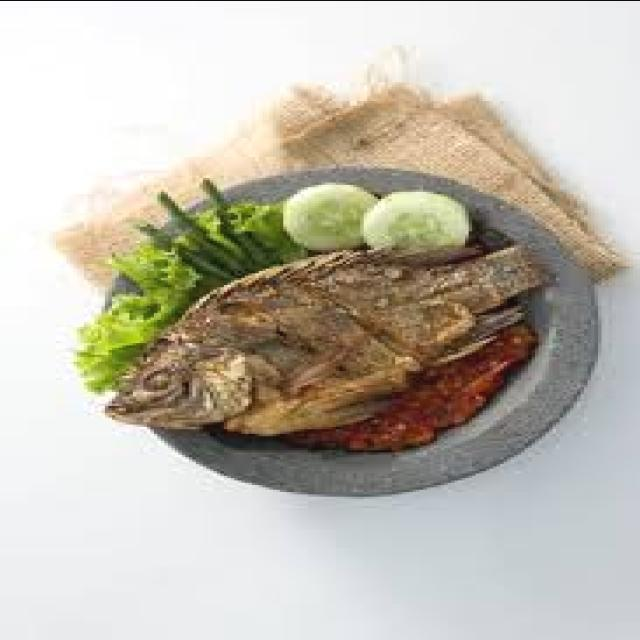ikan goreng: (108, 247, 542, 438)
